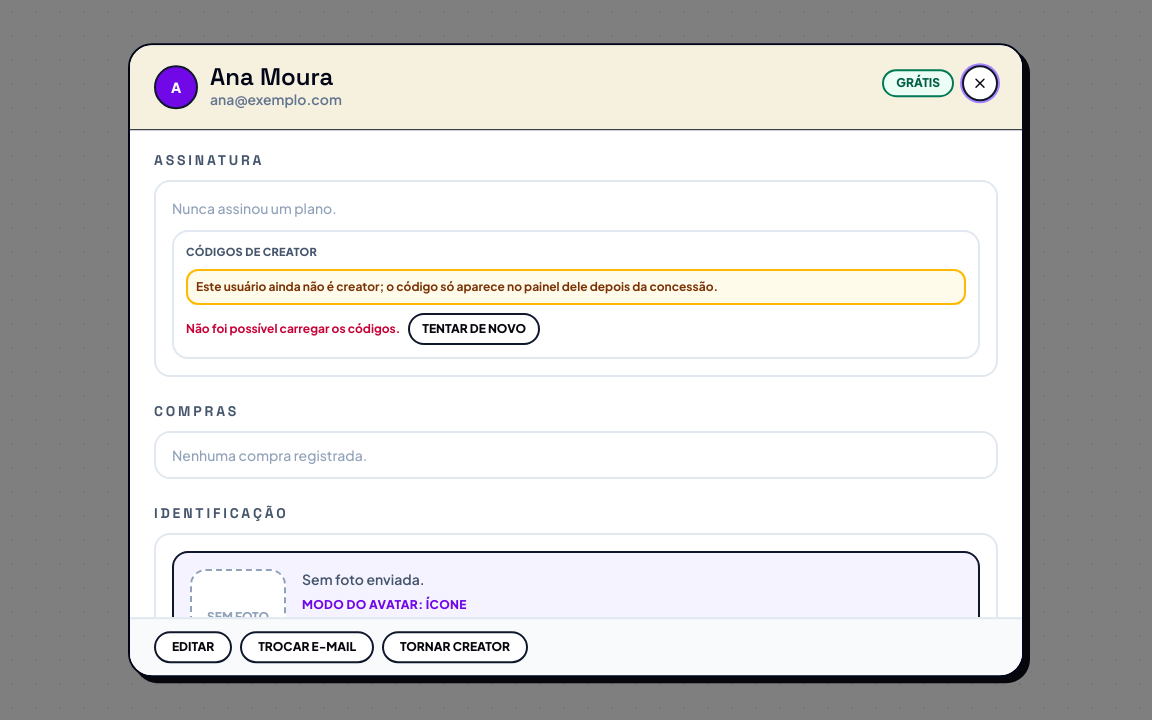
Test: troca de e-mail (Fatia 5b) › passo 1 exige confirmacao digitada: divergente NAO avanca
Step 1. Click the button "Trocar e-mail" → (307, 647), box [240,631,374,663]
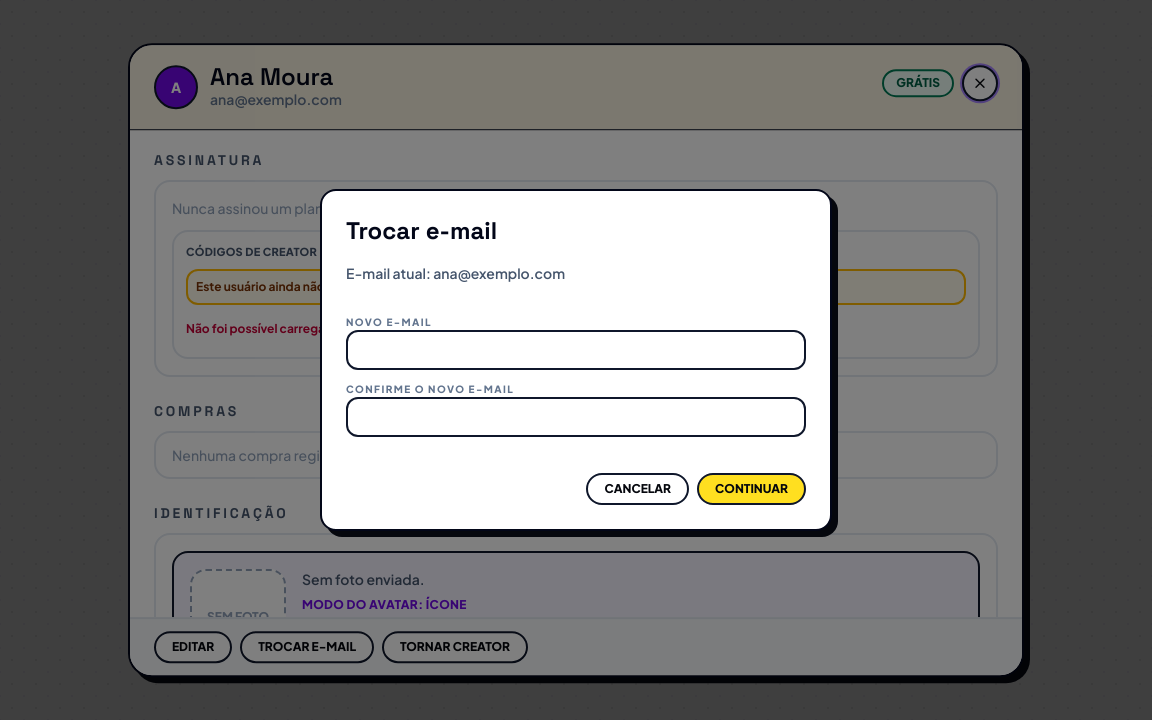
Step 2. Type "novo@exemplo.com" into the field labelled "Novo e-mail" → (576, 350), box [346,330,806,370]
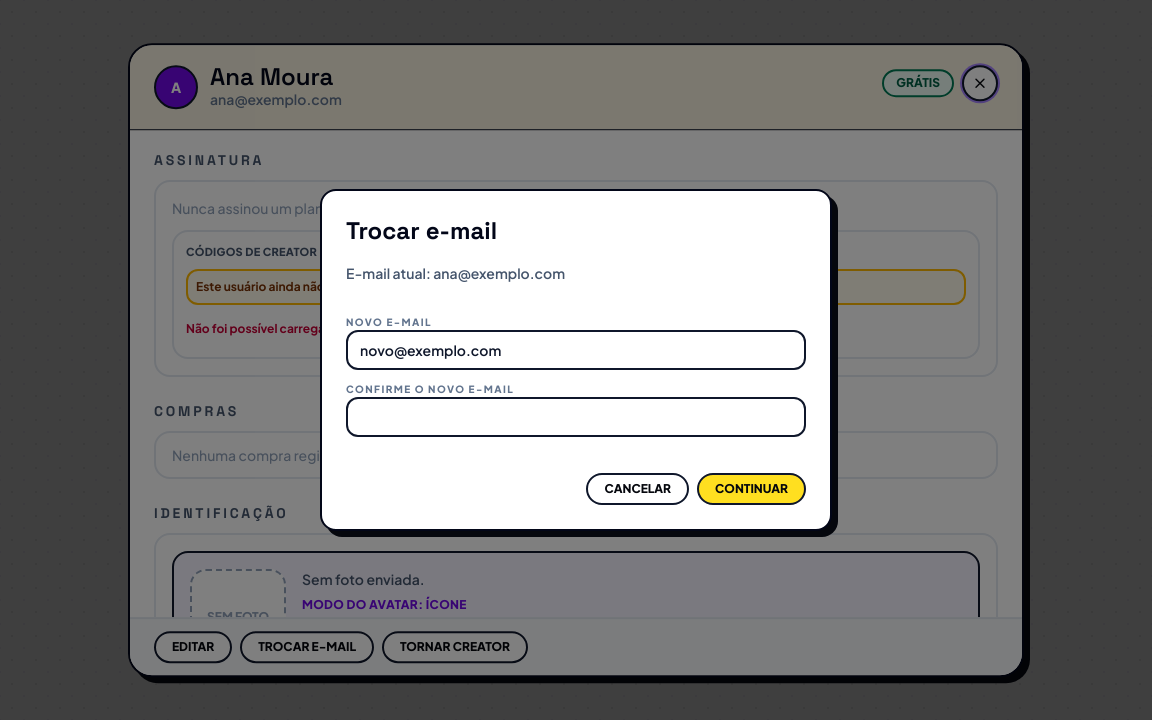
Step 3. Type "nvoo@exemplo.com" into the field labelled "Confirme o novo e-mail" → (576, 417), box [346,397,806,437]
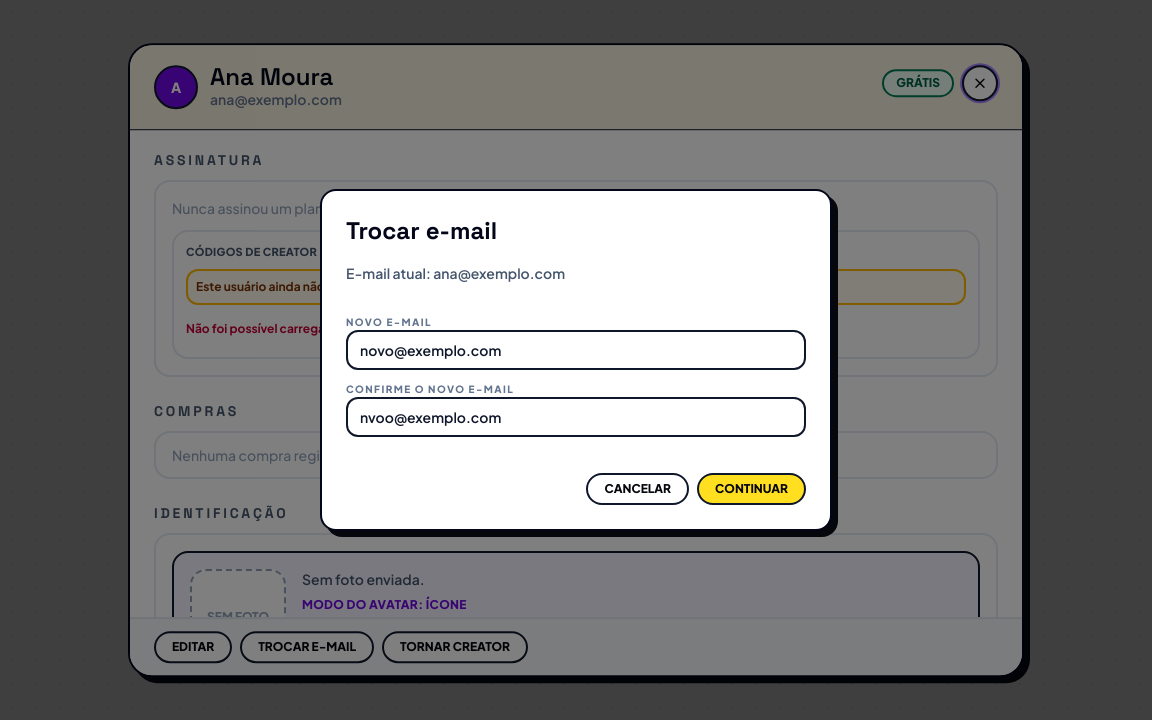
Step 4. Click the button "Continuar" → (752, 489), box [697,473,806,505]
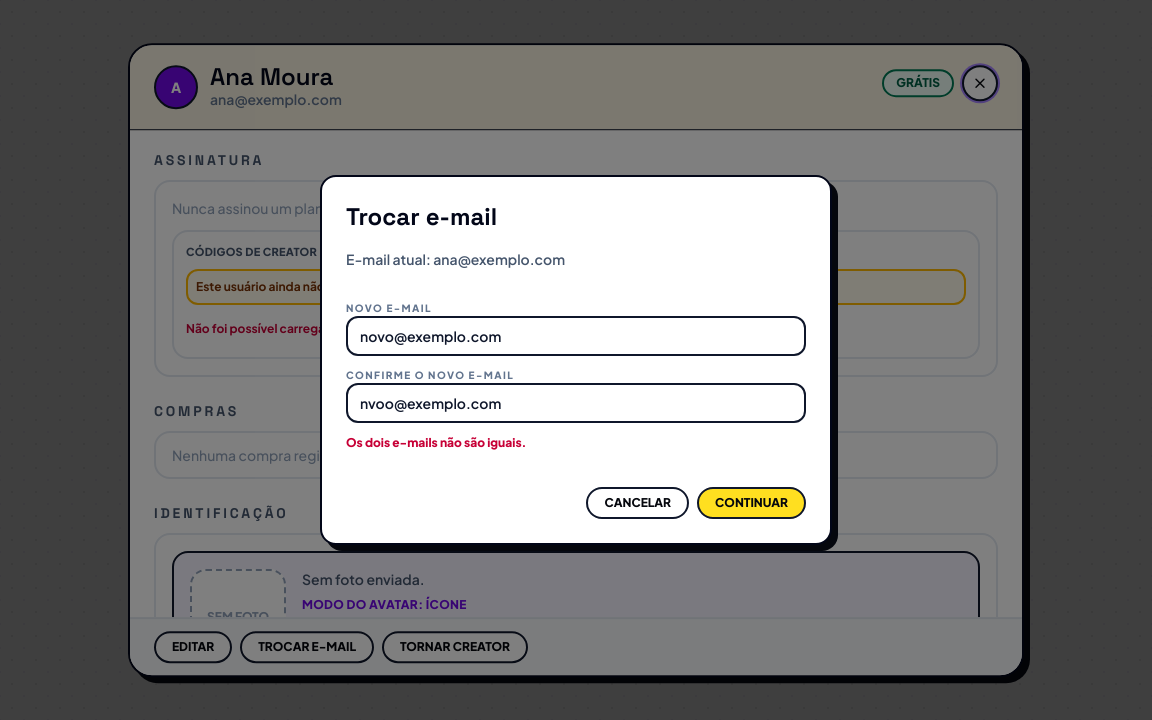
expect the text "Os dois e-mails não são iguais." is shown: met, box [346,435,526,450]
